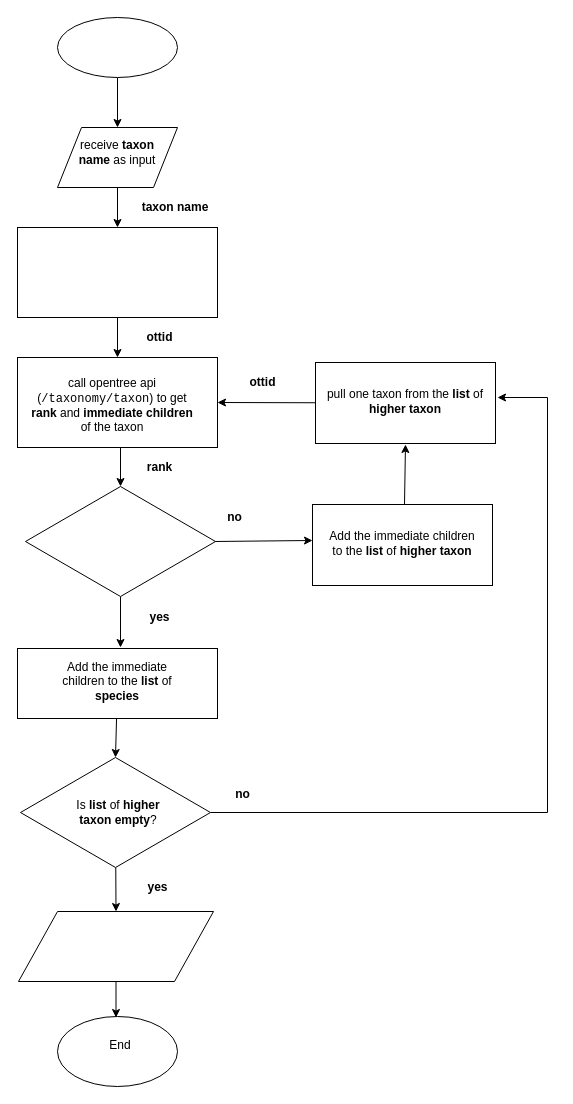
This 573x1104 diagram has some shape labels left out. Each missing label, with the box of its shape:
call opentree api ( /tnrs/match_names ) to get ottid of the taxon: (16, 226, 218, 318)
Is taxon rank genus ?: (24, 486, 216, 596)
Return the list of species as output: (18, 910, 214, 982)
Start: (56, 16, 178, 78)
